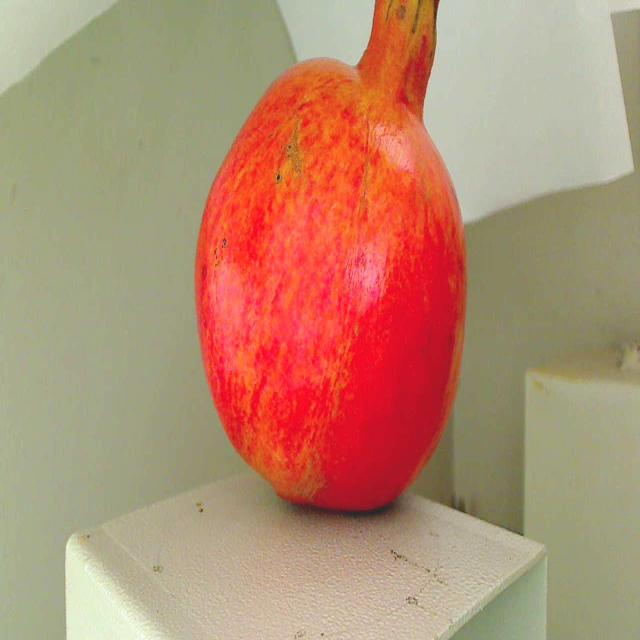pomegranate: (186, 0, 472, 513)
